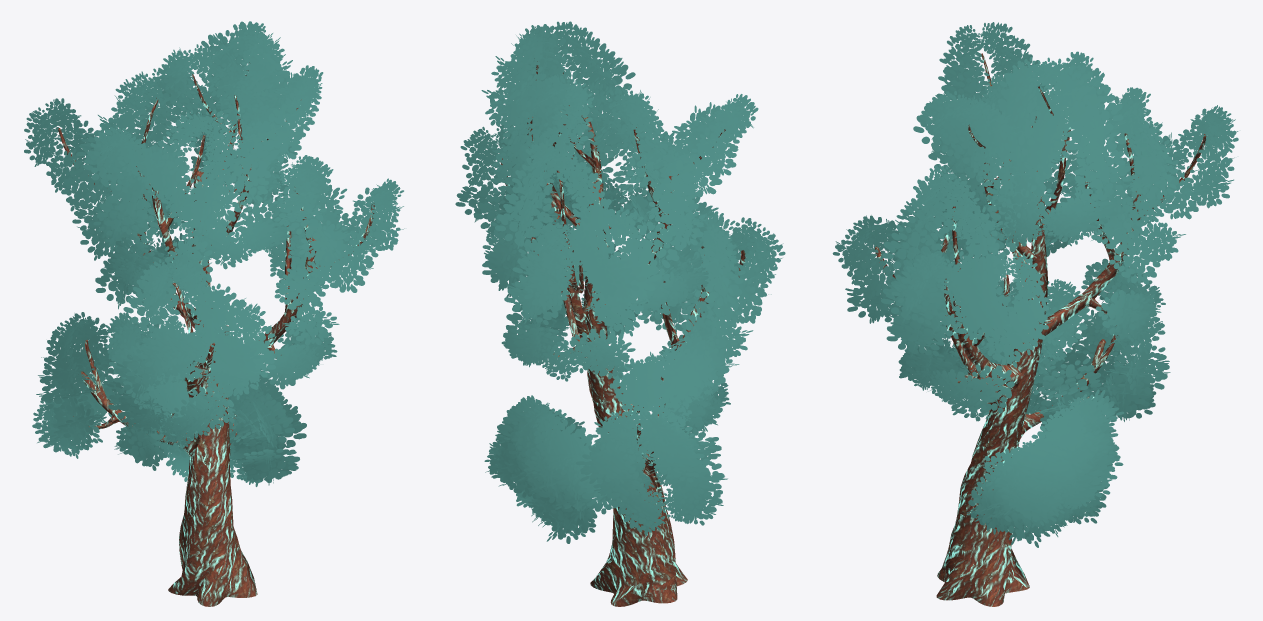
The model's file is dtree_twisted_4.glb.
3 renders of one model, left to right at view 1: azimuth 30°, elevation 25°; view 2: azimuth 150°, elevation 25°; view 3: azimuth 270°, elevation 25°, orthographic. The views are drawn at different scales.
Parts seen in each view (by area): view 1: model; view 2: model; view 3: model.
Boxes of the visible parts, x1=… form: model: x1=24, y1=21, x2=404, y2=606; model: x1=455, y1=21, x2=785, y2=606; model: x1=832, y1=22, x2=1238, y2=606.
Size of the model in its own units: 5.46 by 8.81 by 5.94.
2 materials, 2 textured.
